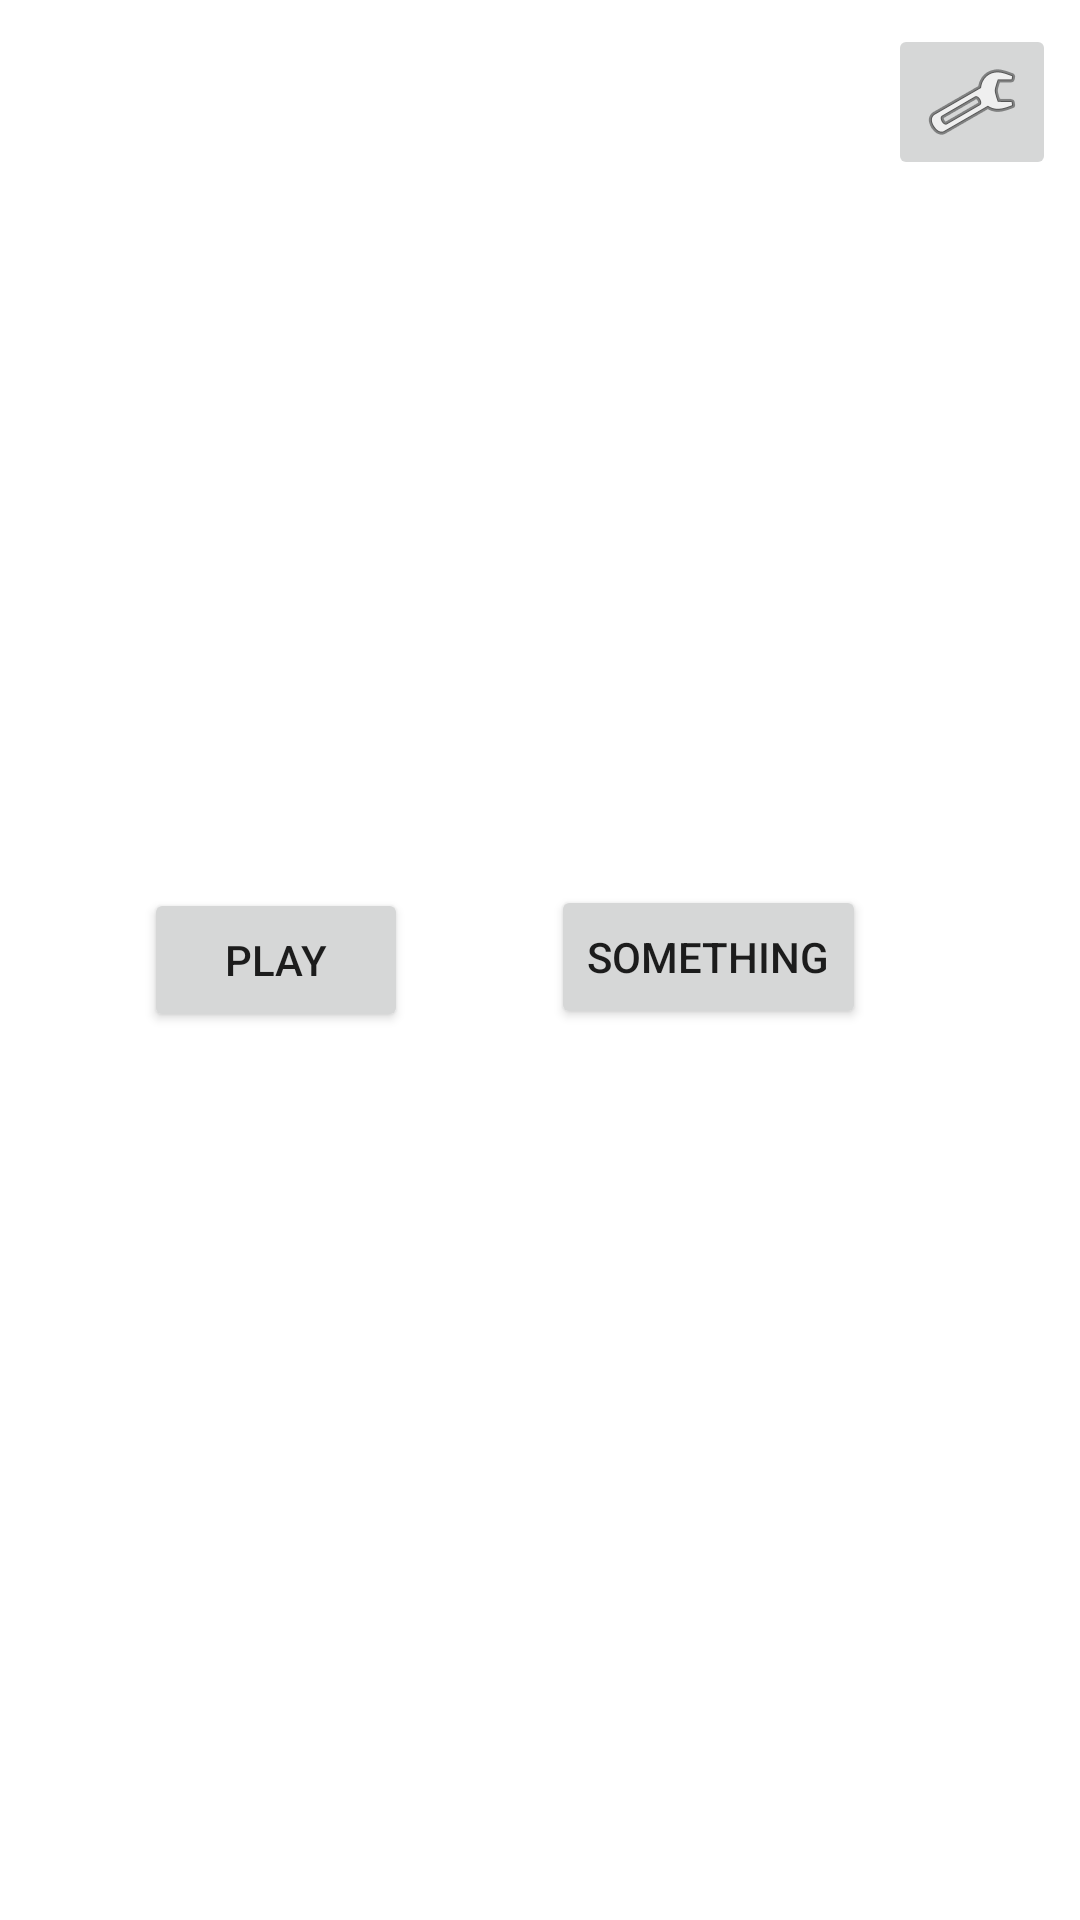

Screen size 1080w x 1920h. Icon name, then its center in pixels as (x,y):
manage: (972,102)
